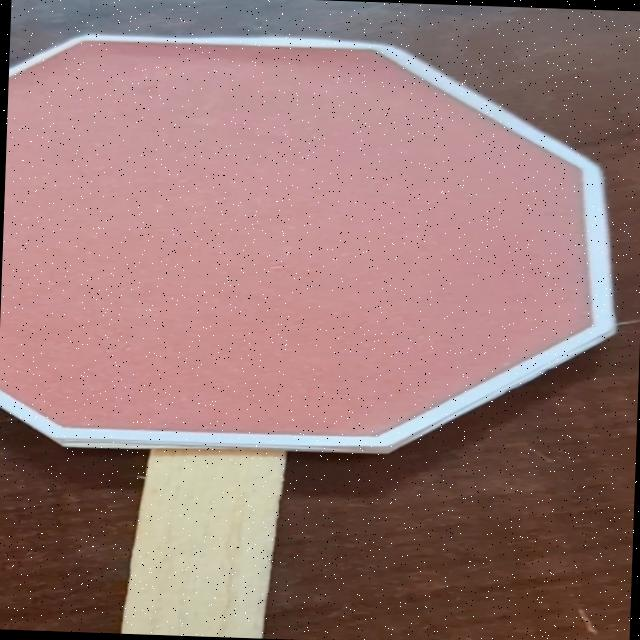Stop: (0, 15, 636, 488)
